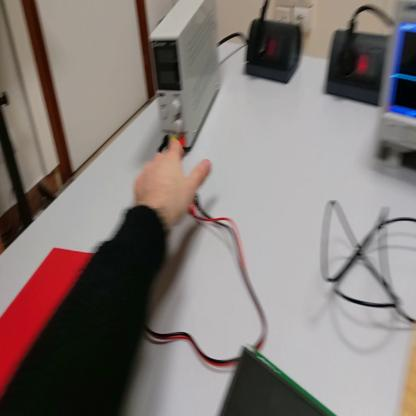hand: (90, 138, 168, 226)
oscilloscope: (378, 2, 416, 169)
power supply: (149, 4, 223, 152)
register: (2, 246, 95, 399)
socket: (327, 26, 388, 104), (245, 22, 303, 87)
working area: (398, 334, 416, 411)
